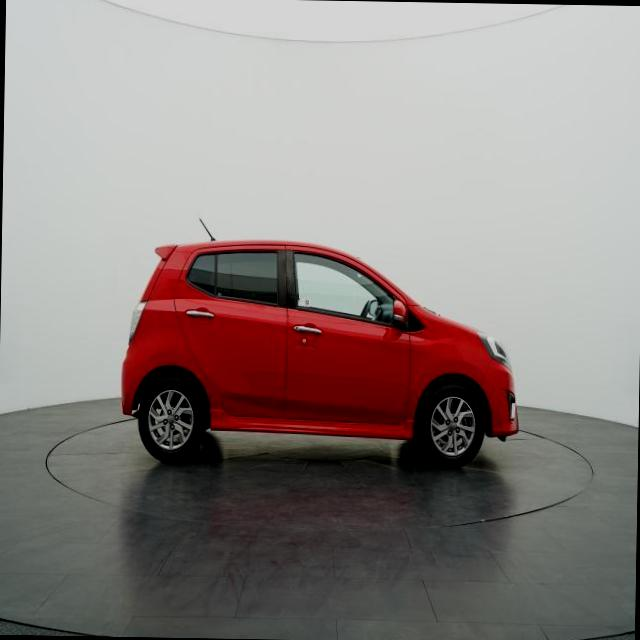PeroduaAxia: (118, 222, 522, 470)
